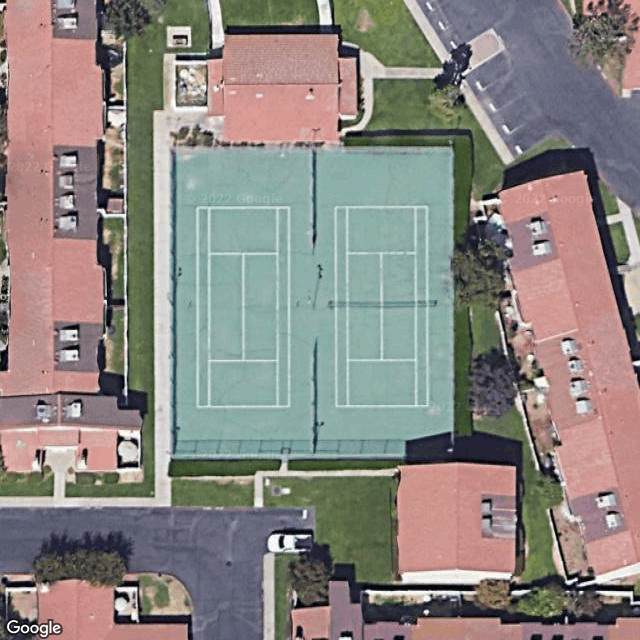Court: (332, 205, 431, 409), (195, 205, 291, 407)
